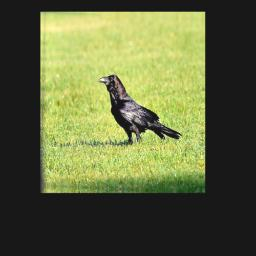Crow: (95, 72, 184, 149)
